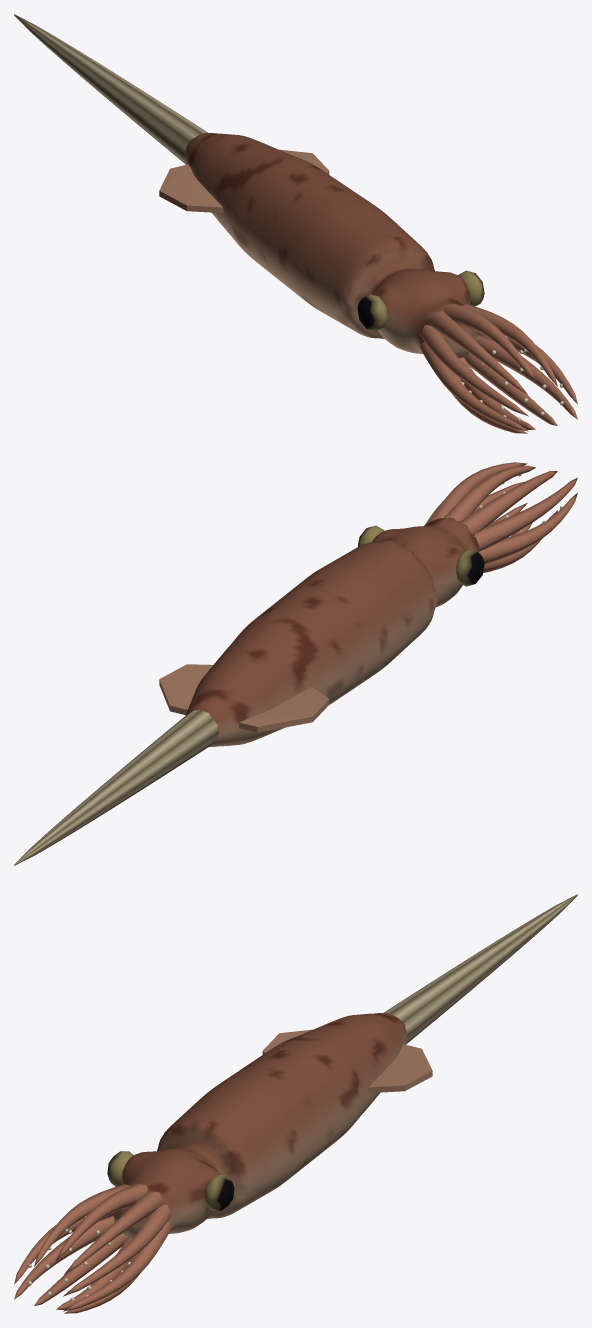
Rendered from Aulacoceras.fbx.
3 renders of one model, top to bottom at view 1: azimuth 30°, elevation 25°; view 2: azimuth 150°, elevation 25°; view 3: azimuth 330°, elevation 25°, orthographic.
Parts seen in each view (by area): view 1: Aulacoceras; view 2: Aulacoceras; view 3: Aulacoceras.
Boxes of the visible parts, bbox=[...] form: Aulacoceras: bbox=[14, 14, 577, 433]; Aulacoceras: bbox=[14, 462, 577, 865]; Aulacoceras: bbox=[14, 894, 577, 1313].
Bounding box in the file's own units: 0.28 × 0.1864 × 1.7.
